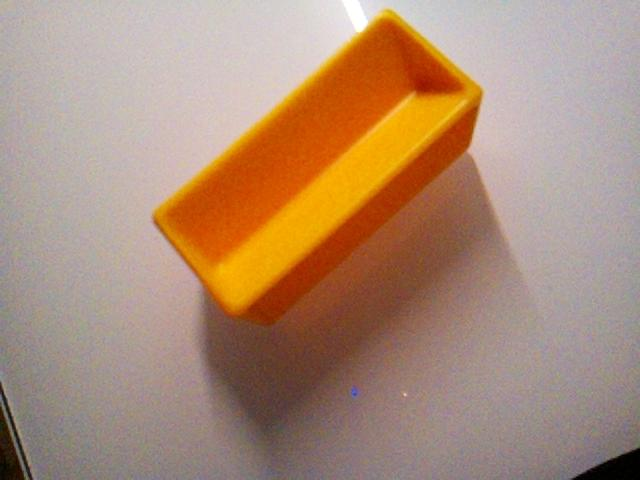yellow: (151, 8, 485, 327)
